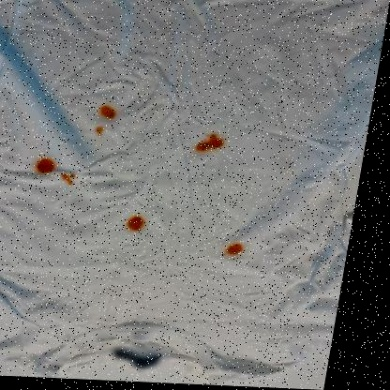kimchi: (196, 129, 227, 159), (37, 152, 58, 179), (126, 210, 148, 234), (98, 103, 118, 124), (62, 168, 79, 186), (229, 243, 245, 258), (94, 127, 105, 137)
